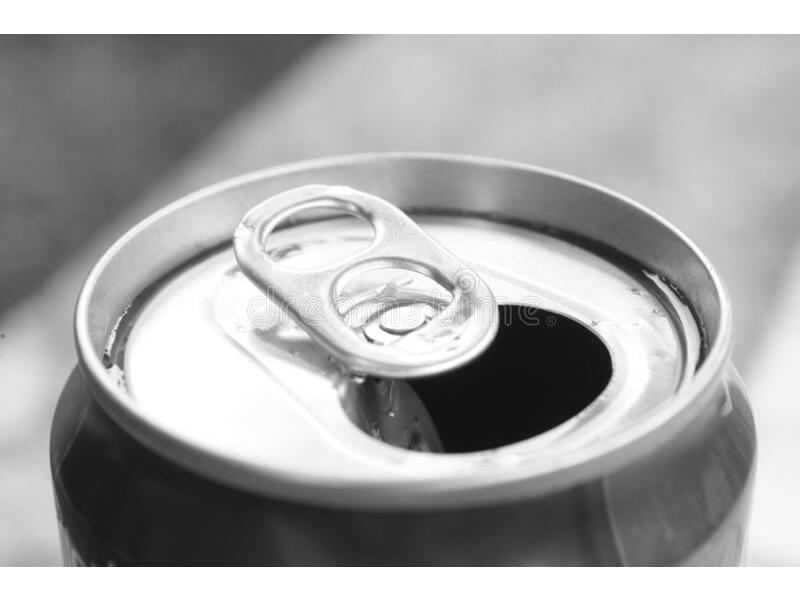can: (41, 133, 776, 568)
